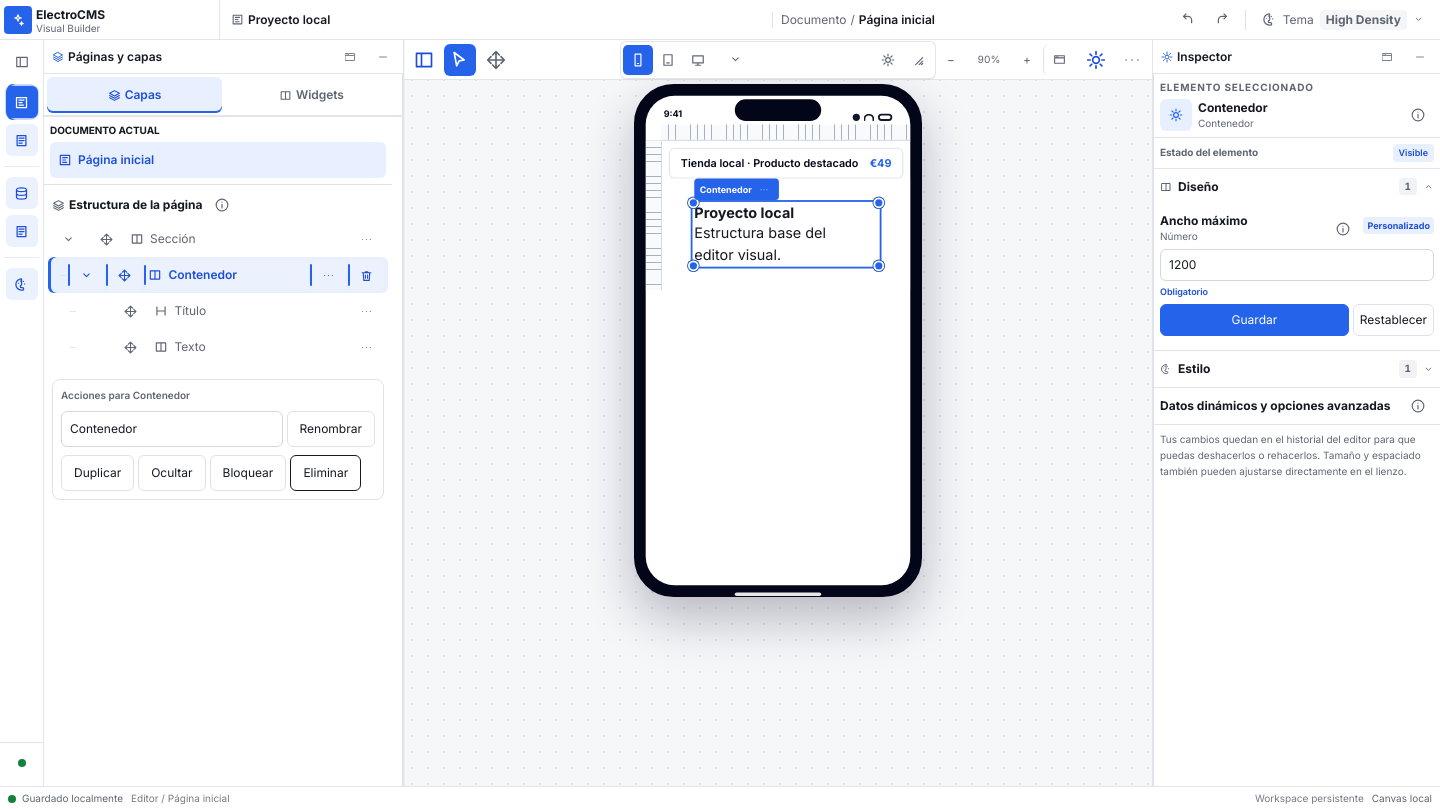
Test case: arquitectura de navegación CMS/builder › abre Contenido como módulo principal sin contaminar el panel de capas
Step 1. Click the button named "Contenido" → (22, 193), box [7,175,36,211]
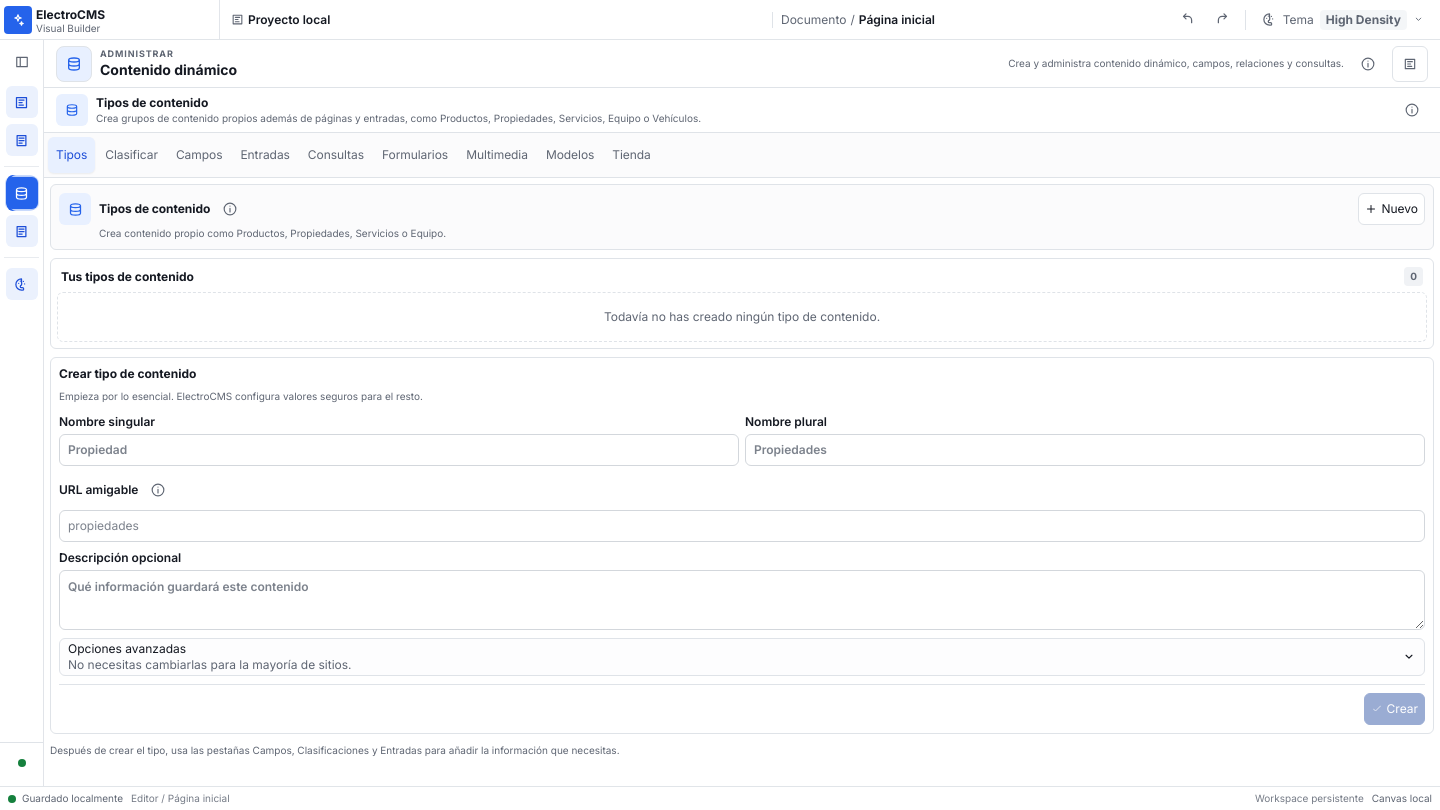
Expected: the element named "contenido dinámico · módulo principal" is shown
Expected: the element named "herramientas de contenido" is shown, [48,137,659,173]
Expected: the tab with aria-label "Tipos de contenido" is shown, [48,137,95,173]
